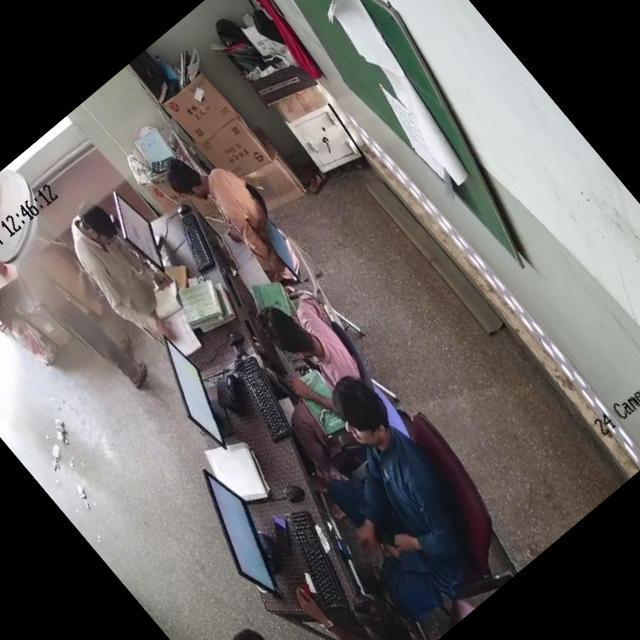person: (266, 369, 500, 617), (0, 223, 158, 400), (148, 124, 300, 289), (49, 195, 184, 343), (258, 290, 362, 400), (304, 555, 431, 640), (220, 597, 365, 640)
